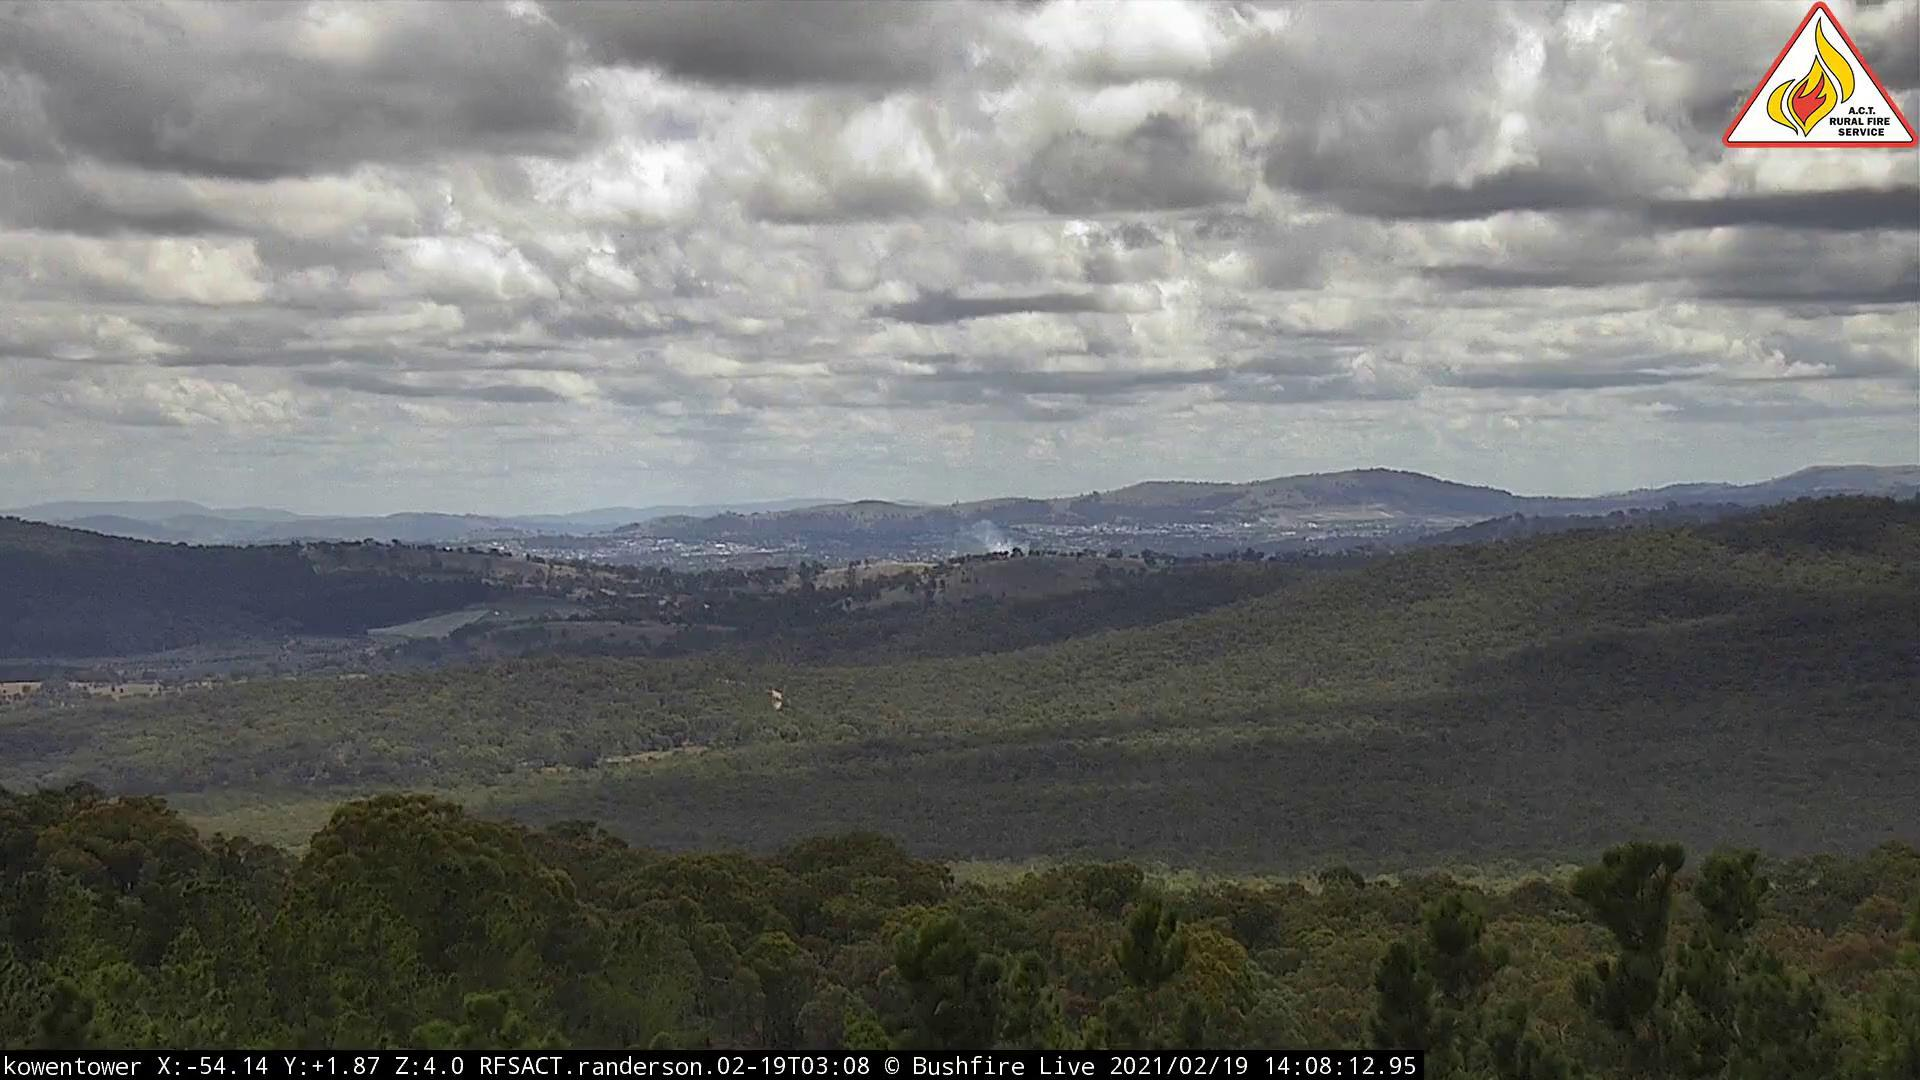instance_salient_object: (984, 527, 1035, 564)
